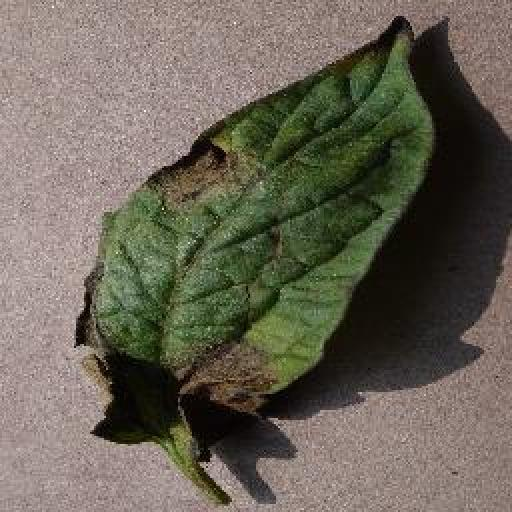disease_tomato: (77, 15, 435, 460)
